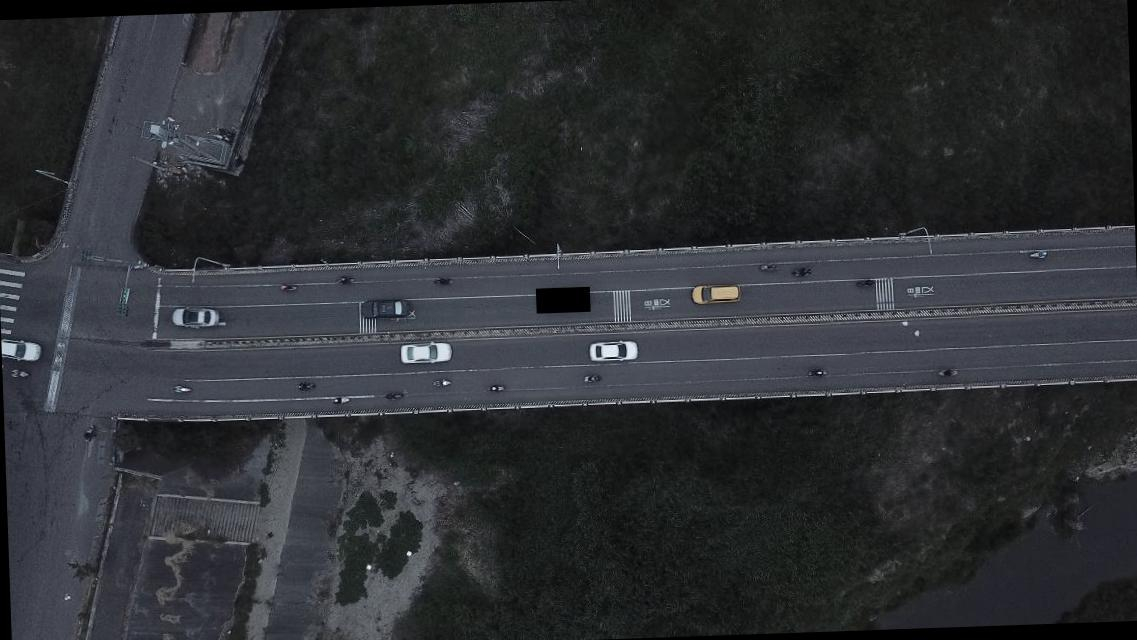vehicle: (357, 296, 409, 321), (584, 338, 638, 362), (169, 305, 219, 329), (398, 340, 452, 362), (689, 283, 740, 306), (1, 336, 43, 362)
